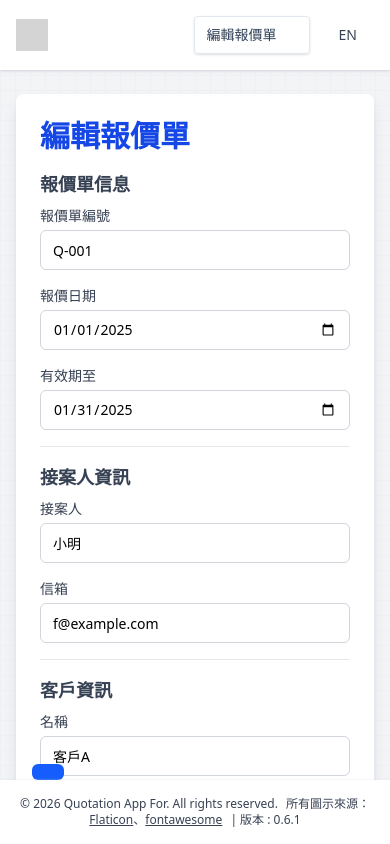
Test: Home page › shows and closes history modal
Click the button named "查看匯出紀錄" at x=48, y=772, box [32,764,64,780]
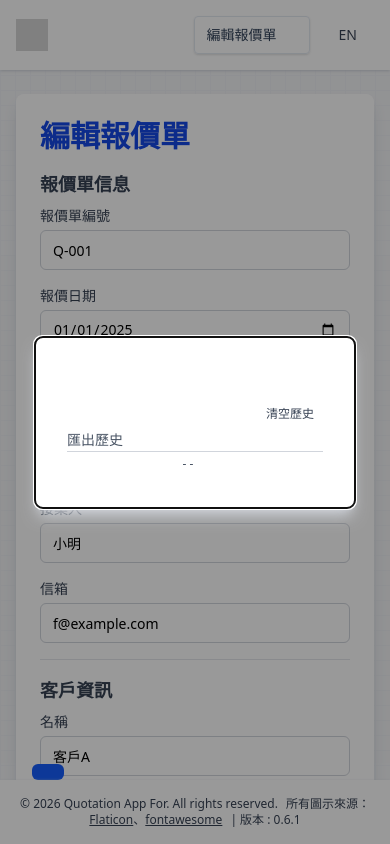
Click the button named "關閉" at x=338, y=350, box [321,340,355,358]
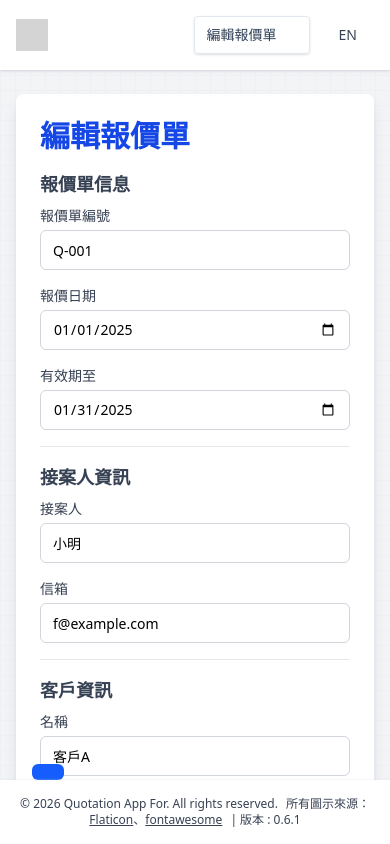
Expected: the dialog is gone
